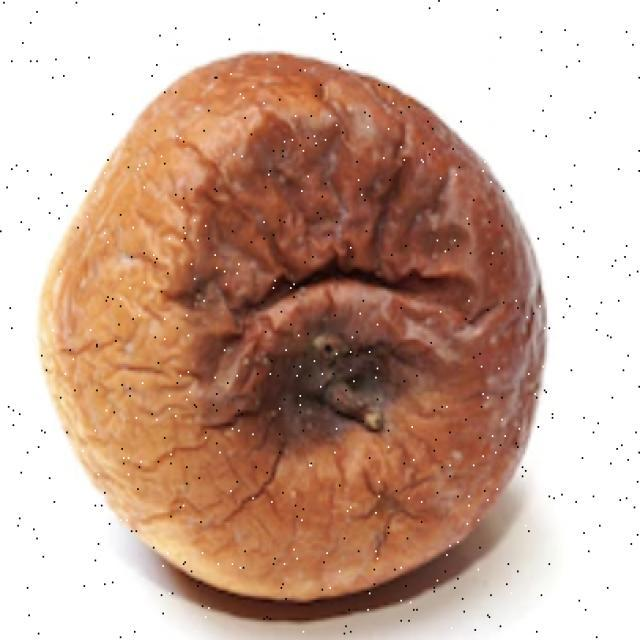Rotten: (64, 51, 553, 640)
